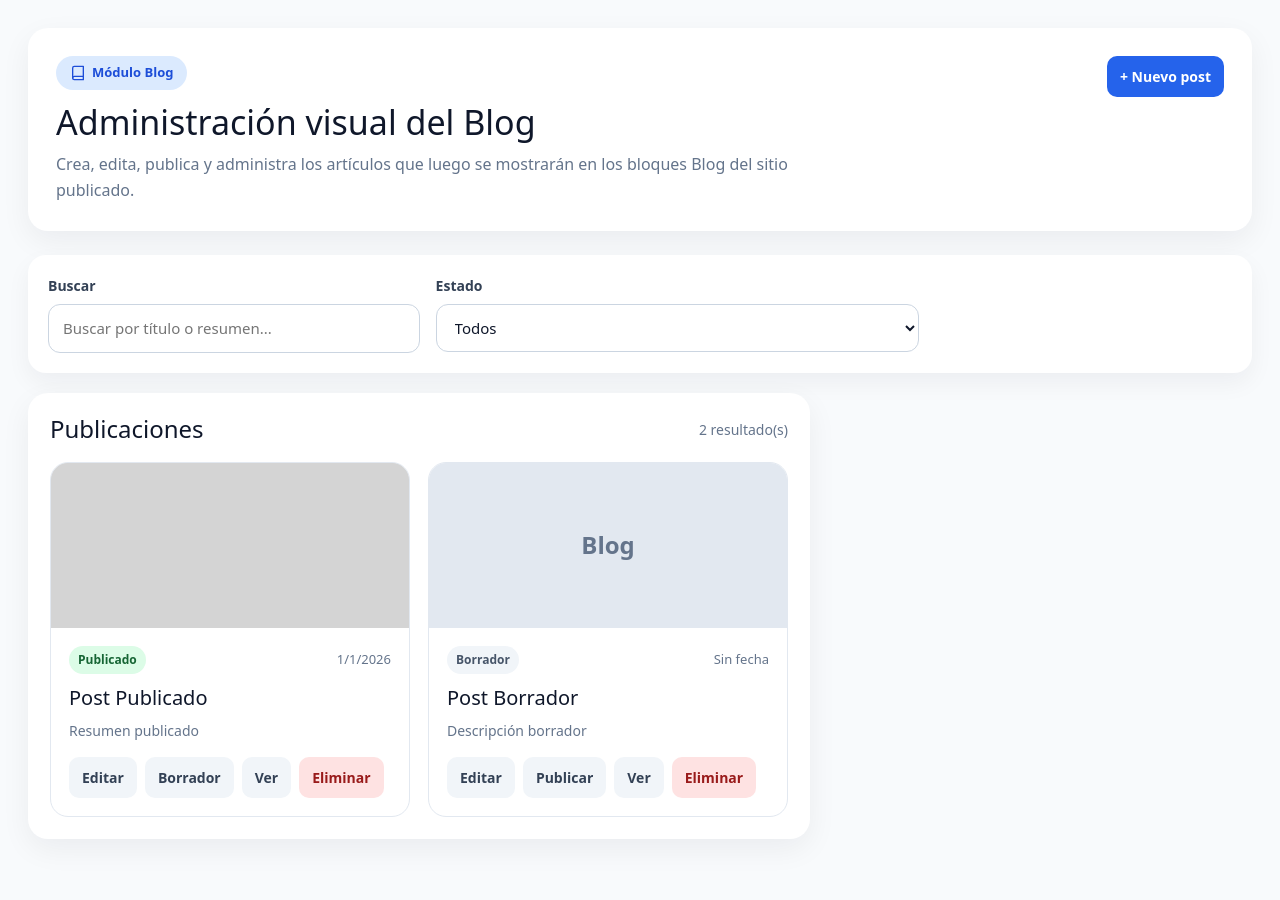
Test: Blog page › changes status quickly
Expected: the heading "Post Borrador" is shown, 447,684 -> 578,711
Step 1. Click the button "Publicar" → [565, 777], box 523,757 -> 606,798
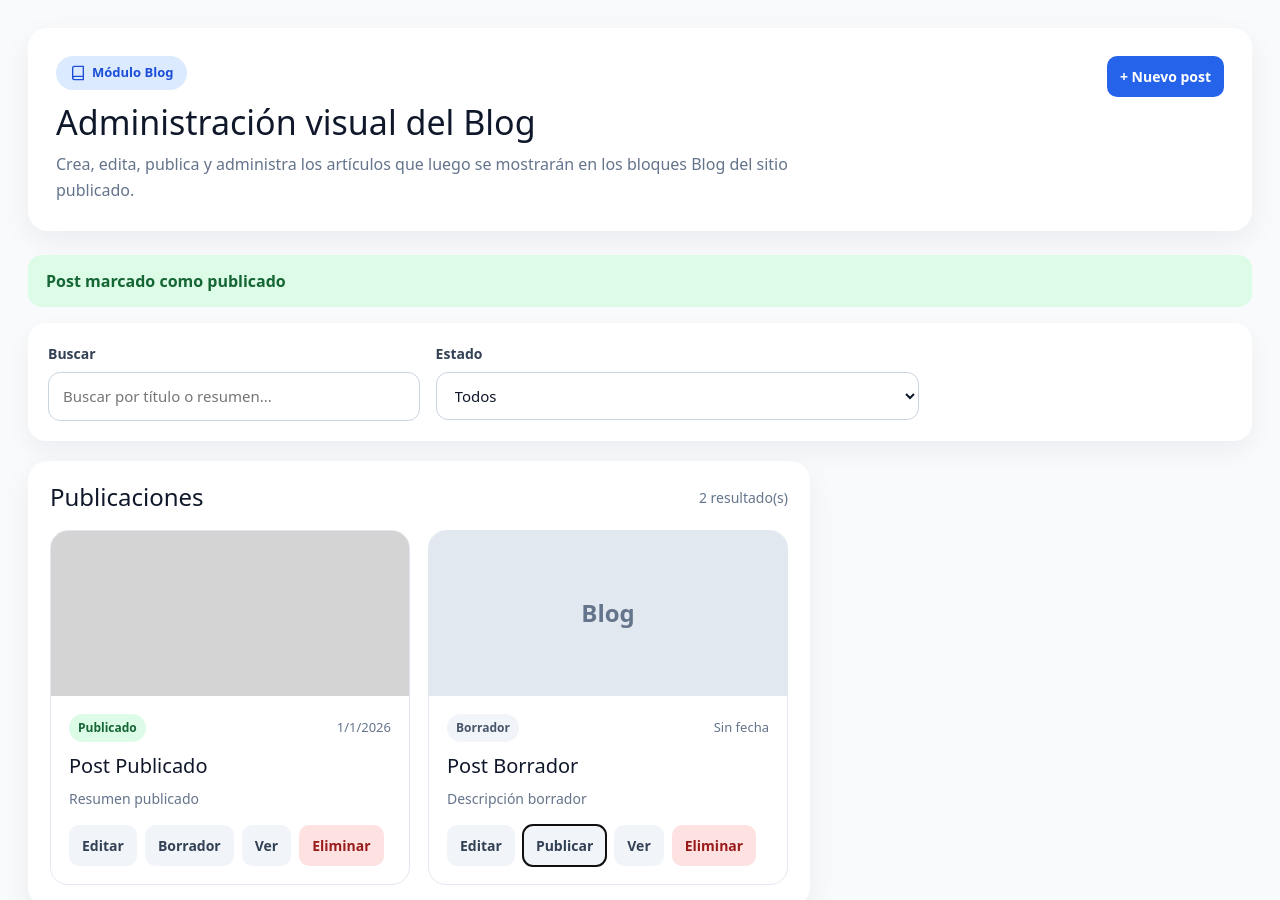
Now the text "Post marcado como publicado" is shown, box 28,256 -> 1252,308
